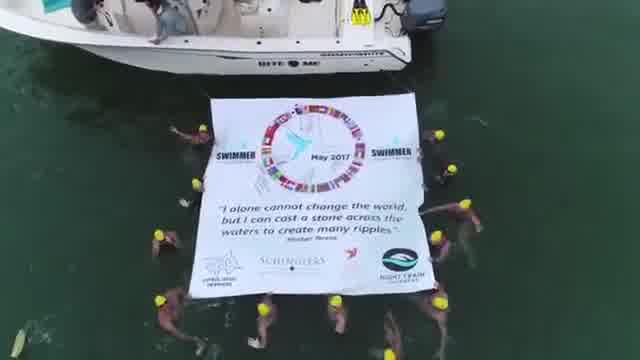human: (148, 284, 198, 348), (417, 190, 485, 230), (414, 284, 446, 360), (250, 292, 278, 354), (165, 118, 218, 150), (322, 294, 354, 334), (424, 228, 451, 268), (148, 228, 182, 258)
